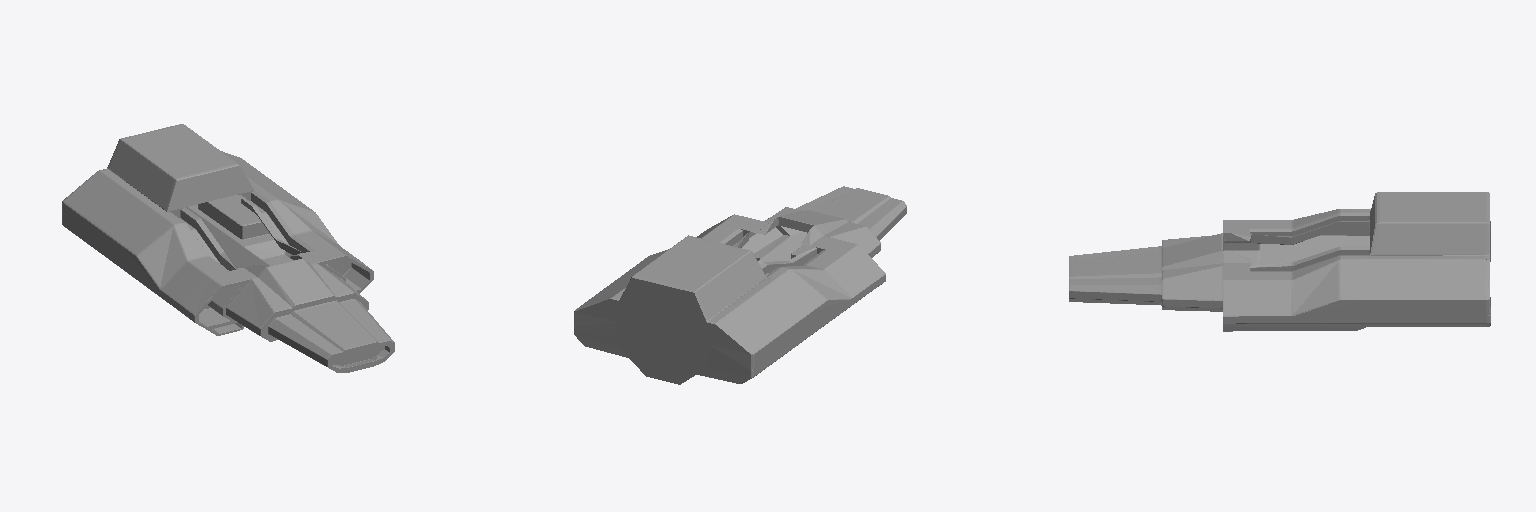
File: FighterChassis.obj
3 views of the same model, side by side, from view 1: azimuth 30°, elevation 25°; view 2: azimuth 150°, elevation 25°; view 3: azimuth 270°, elevation 25° (orthographic).
Parts seen in each view (by area): view 1: FighterChassis_Plane.003; view 2: FighterChassis_Plane.003; view 3: FighterChassis_Plane.003.
Boxes of the visible parts, box(x1,y1,x2,y2) form: FighterChassis_Plane.003: box(62, 124, 394, 372); FighterChassis_Plane.003: box(574, 186, 906, 384); FighterChassis_Plane.003: box(1069, 192, 1490, 331).
Size of the model in its own units: 3 by 1.55 by 6.08.